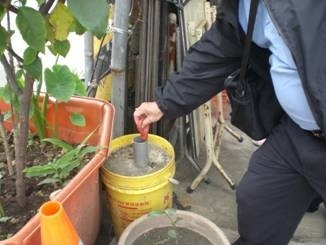bucket: (101, 132, 177, 241)
